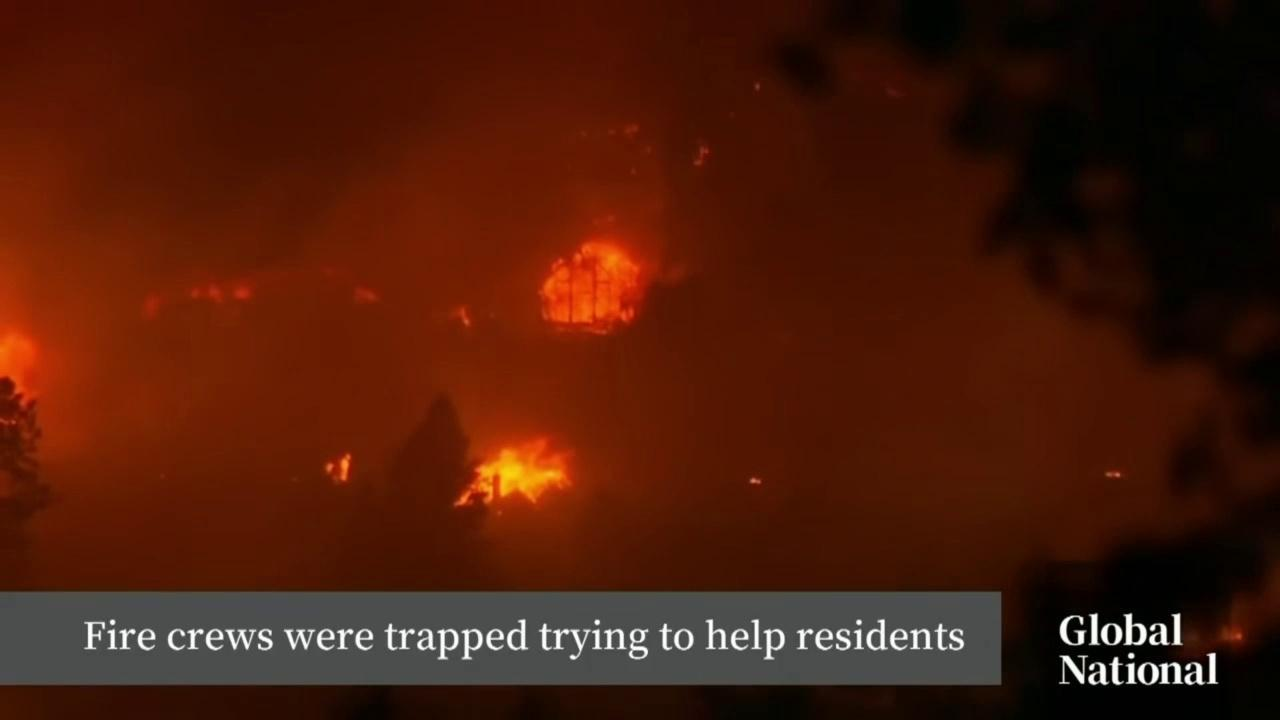fire: (533, 227, 653, 343), (452, 430, 583, 509), (0, 325, 45, 423), (184, 279, 254, 303), (320, 447, 356, 485), (452, 302, 476, 333), (692, 140, 715, 172), (143, 291, 163, 319), (355, 287, 382, 307), (1102, 467, 1125, 485), (745, 473, 762, 488)
smoke: (0, 0, 1280, 591)
